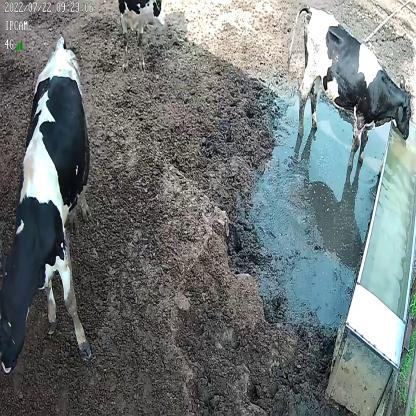cow: (3, 29, 93, 376), (286, 4, 414, 172)
